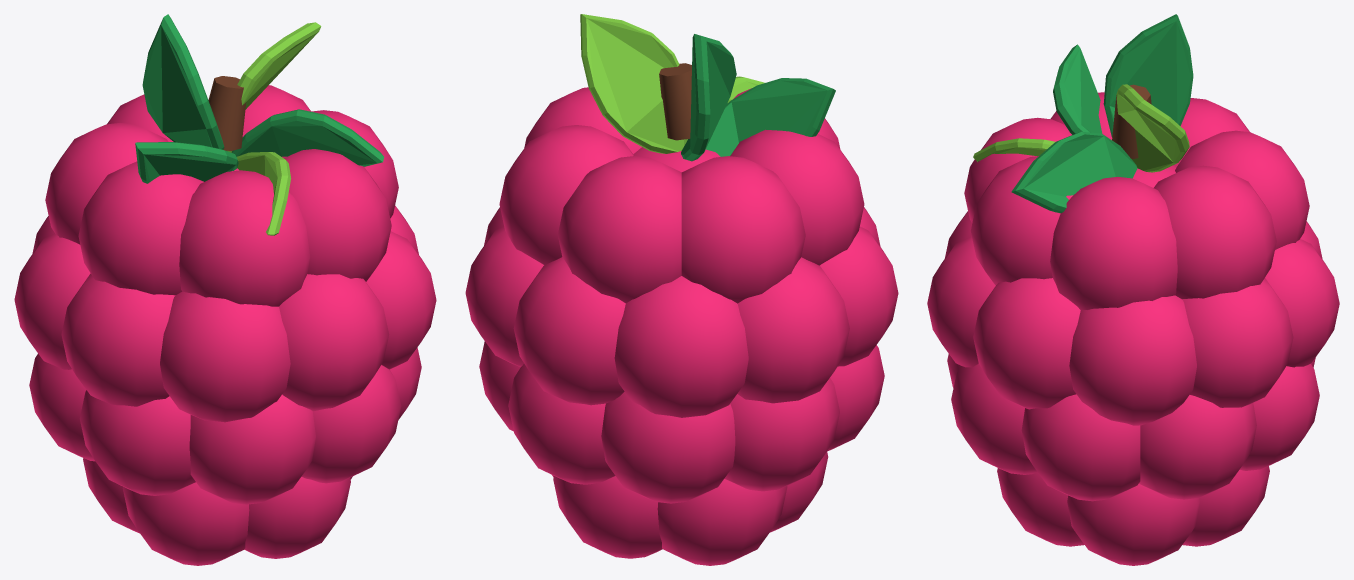
File: berry.glb
3 views of the same model, side by side, from view 1: azimuth 30°, elevation 25°; view 2: azimuth 150°, elevation 25°; view 3: azimuth 270°, elevation 25° (orthographic). The views are drawn at different scales.
Visible parts, largest first — view 1: berry-berry, berry-leaf, berry-leafLight, berry-stem; view 2: berry-berry, berry-leaf, berry-leafLight, berry-stem; view 3: berry-berry, berry-leaf, berry-leafLight, berry-stem.
Part boxes in pixels (box(x1,y1,x2,y2)): berry-berry: box(14, 85, 436, 565); berry-leaf: box(135, 14, 383, 183); berry-leafLight: box(226, 22, 321, 235); berry-stem: box(208, 76, 246, 150); berry-berry: box(465, 87, 898, 565); berry-leaf: box(681, 34, 835, 161); berry-leafLight: box(580, 14, 764, 153); berry-stem: box(659, 63, 691, 140); berry-berry: box(927, 92, 1339, 565); berry-leaf: box(1011, 14, 1193, 213); berry-leafLight: box(973, 84, 1189, 172); berry-stem: box(1112, 84, 1151, 158).
Bounding box in the file's own units: 1.67 × 2.25 × 1.68.
